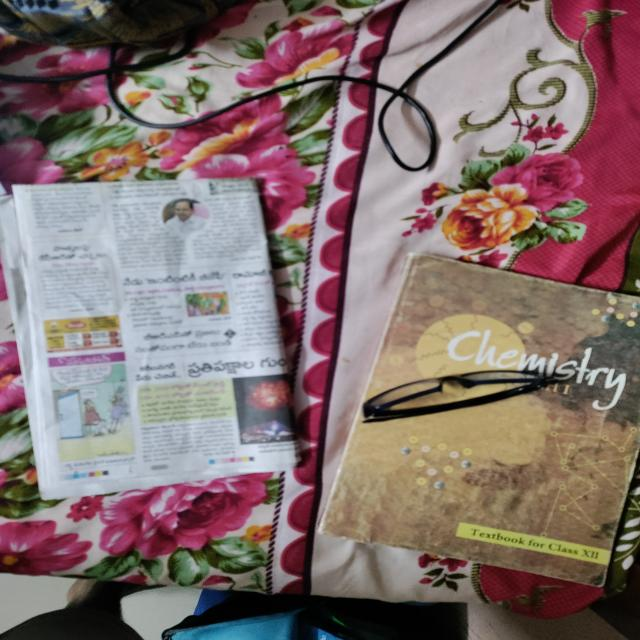dry: (317, 244, 640, 586), (14, 170, 302, 492)
